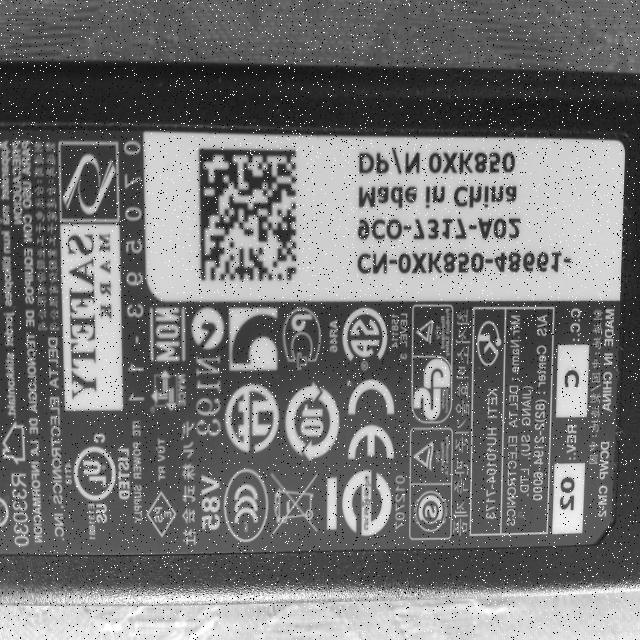datamatrix: (194, 144, 300, 293)
